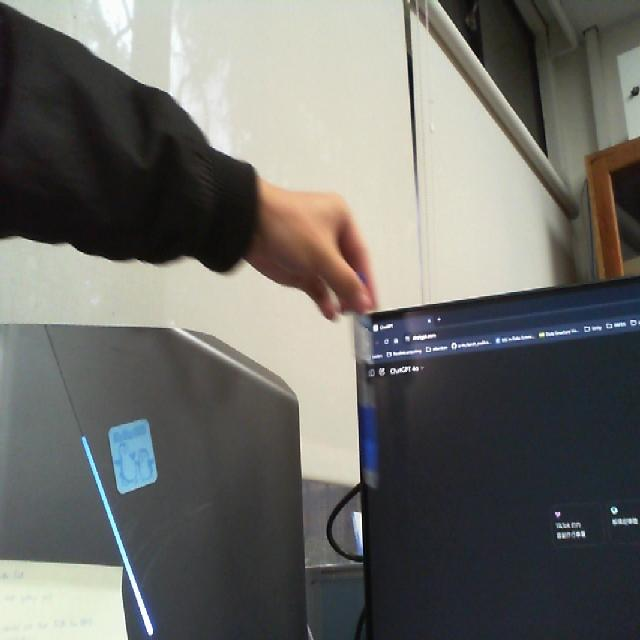Pen: (332, 266, 402, 530)
